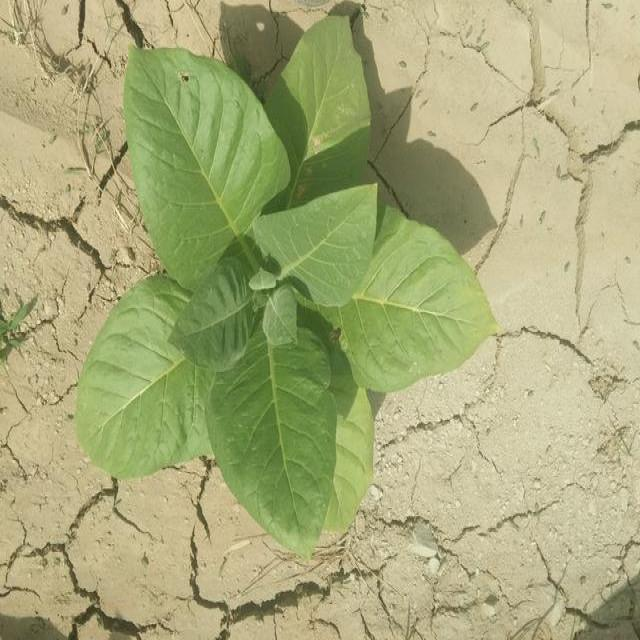crop: (73, 21, 495, 560)
